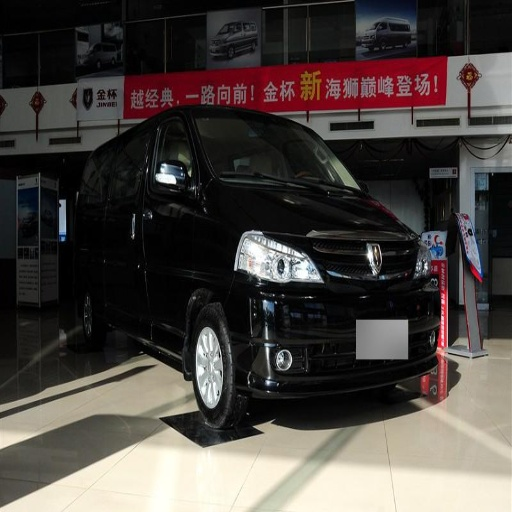front_bumper: (225, 236, 447, 395)
front_right_door: (143, 116, 199, 328)
front_right_light: (238, 232, 319, 283)
